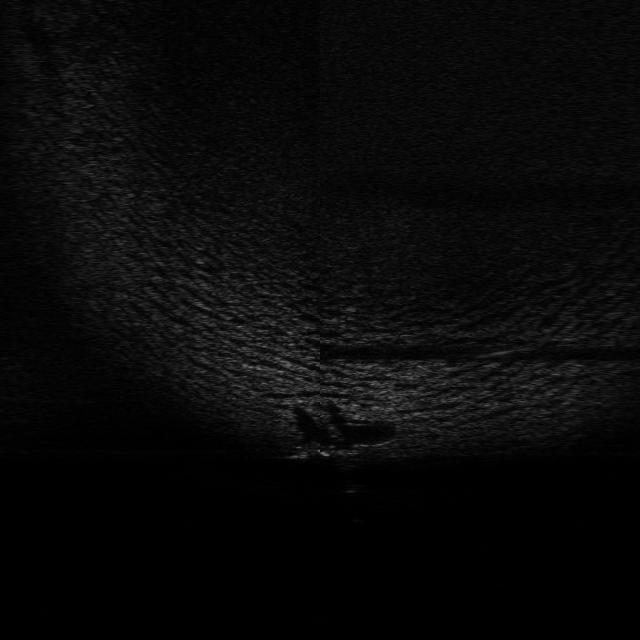plane: (280, 440, 380, 463)
